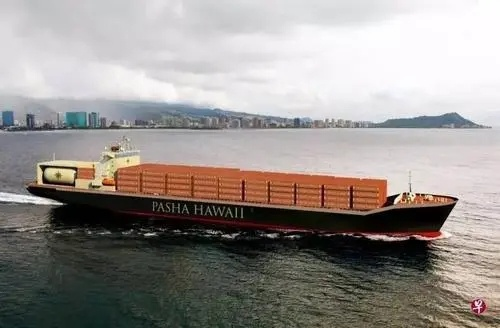Cargoship: (24, 134, 460, 238)
